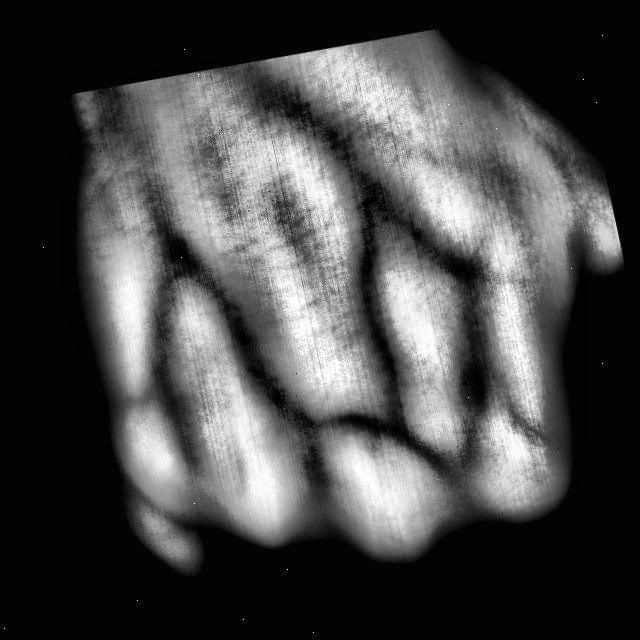Vein: (161, 228, 313, 423)
